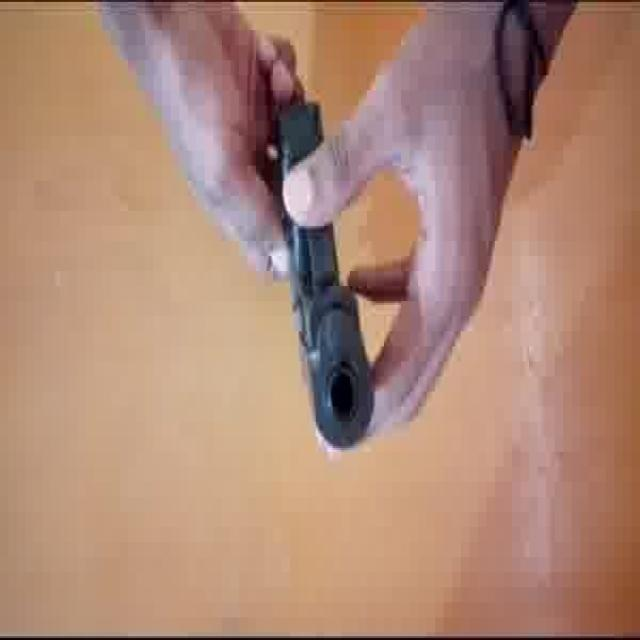weapon: (266, 92, 384, 453)
